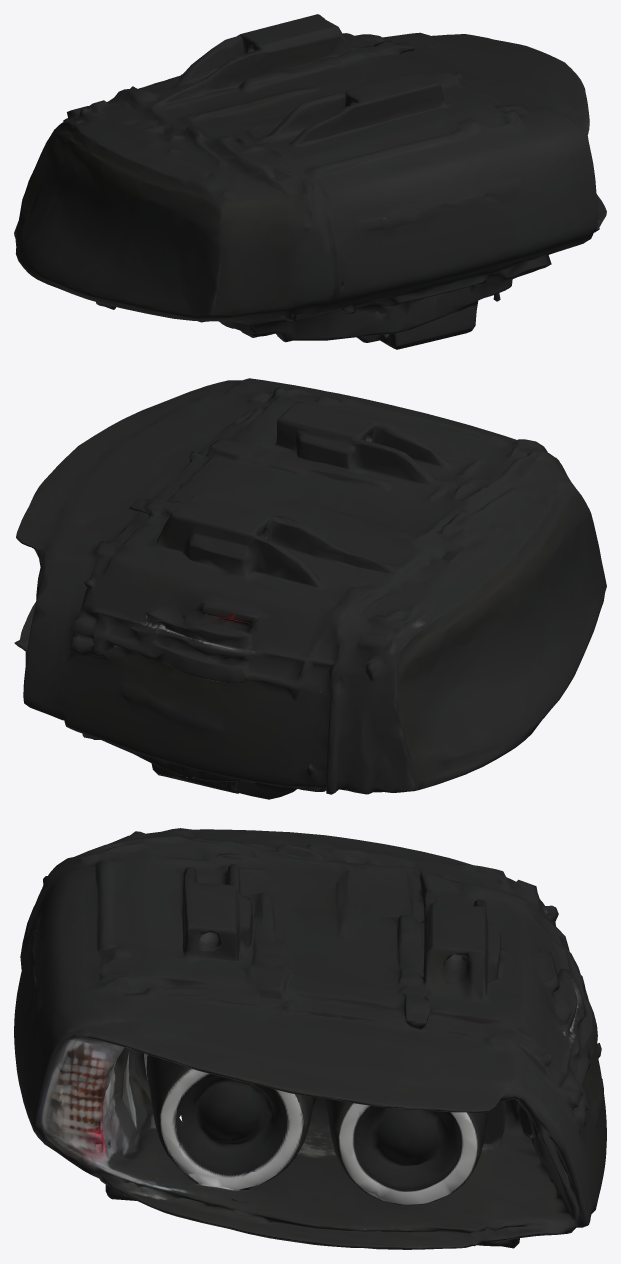
The model's file is bavorak_headlight.glb.
The picture shows the model from 3 angles, top to bottom: view 1: azimuth 30°, elevation 25°; view 2: azimuth 150°, elevation 25°; view 3: azimuth 270°, elevation 25°; orthographic projection. The views are drawn at different scales.
Visible parts, largest first — view 1: tripo_node_33239b3c-9174-4af6-9cf5-766155837035; view 2: tripo_node_33239b3c-9174-4af6-9cf5-766155837035; view 3: tripo_node_33239b3c-9174-4af6-9cf5-766155837035.
Boxes of the visible parts, box(x1,y1,x2,y2) form: tripo_node_33239b3c-9174-4af6-9cf5-766155837035: box(14, 14, 606, 349); tripo_node_33239b3c-9174-4af6-9cf5-766155837035: box(14, 378, 606, 799); tripo_node_33239b3c-9174-4af6-9cf5-766155837035: box(14, 828, 606, 1249).
Bounding box in the file's own units: 0.9996 × 0.5131 × 0.8571.
Materials: 1 (1 with a texture image).
